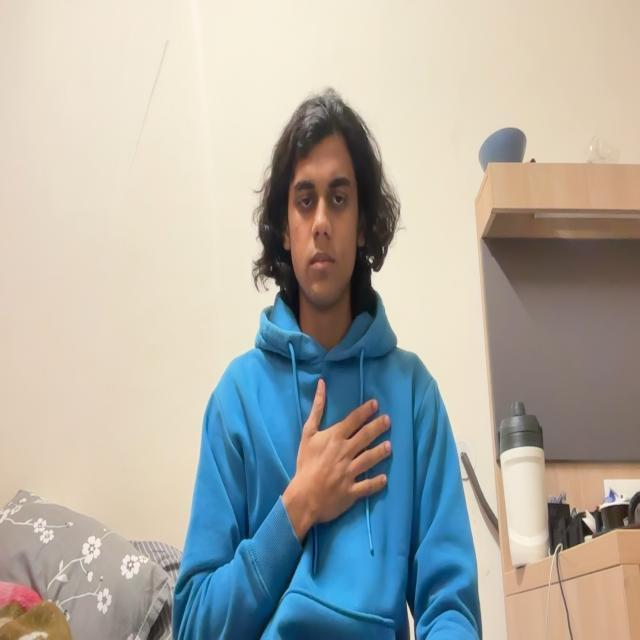Please: (270, 366, 408, 549)
